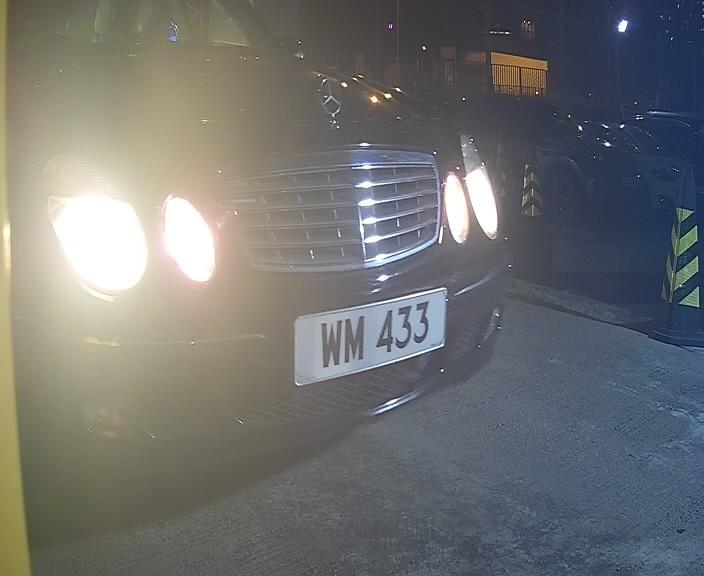Car: (32, 3, 595, 510)
License Plate: (287, 283, 447, 384)
